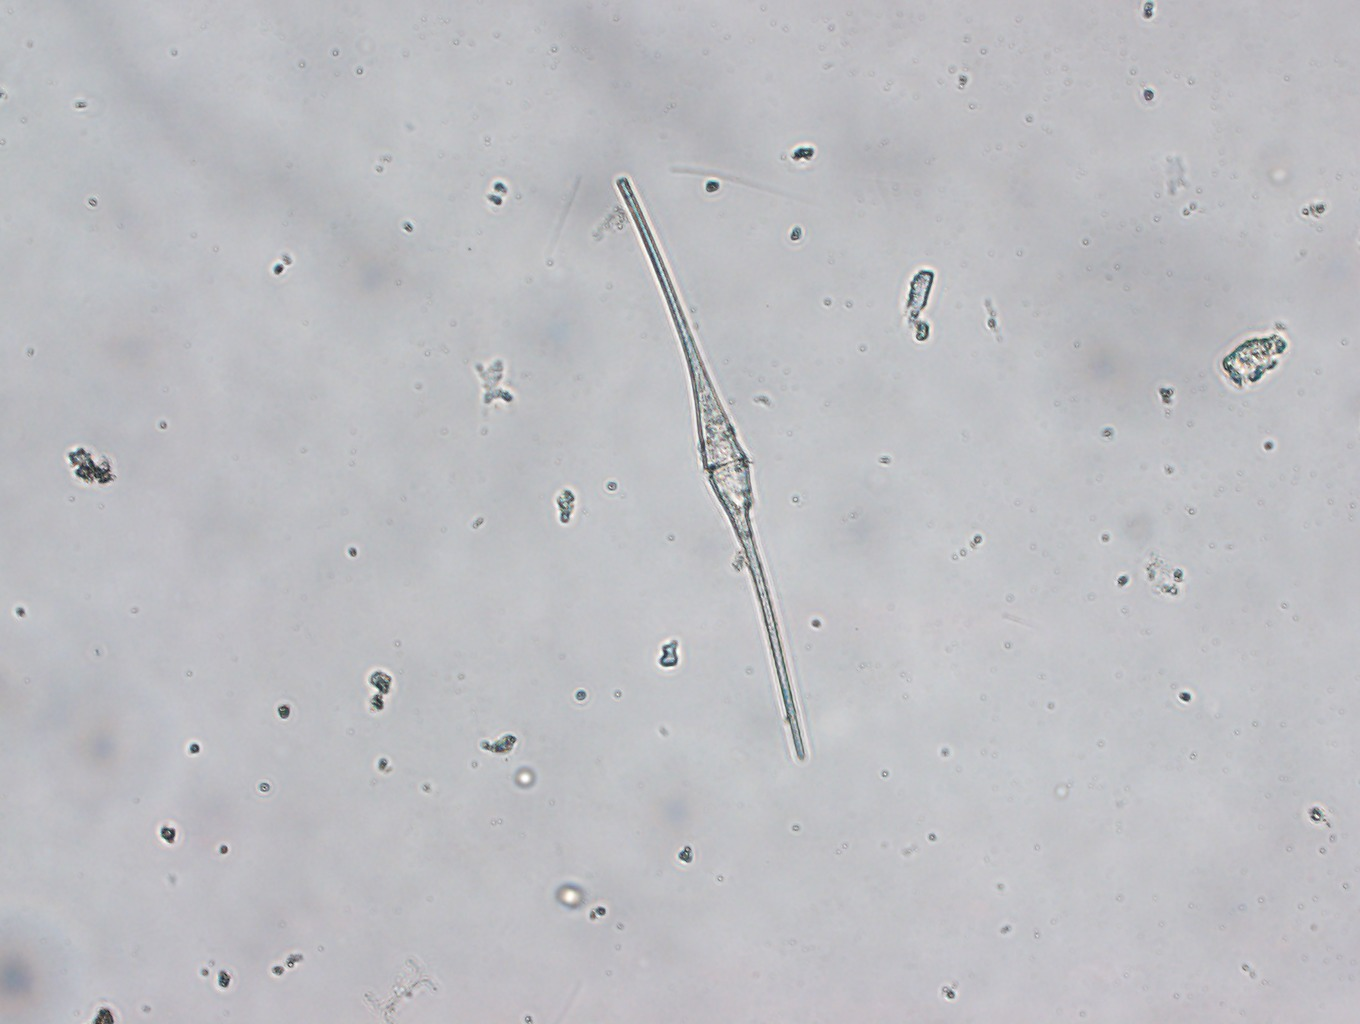ceratium fusus: (615, 169, 808, 762)
